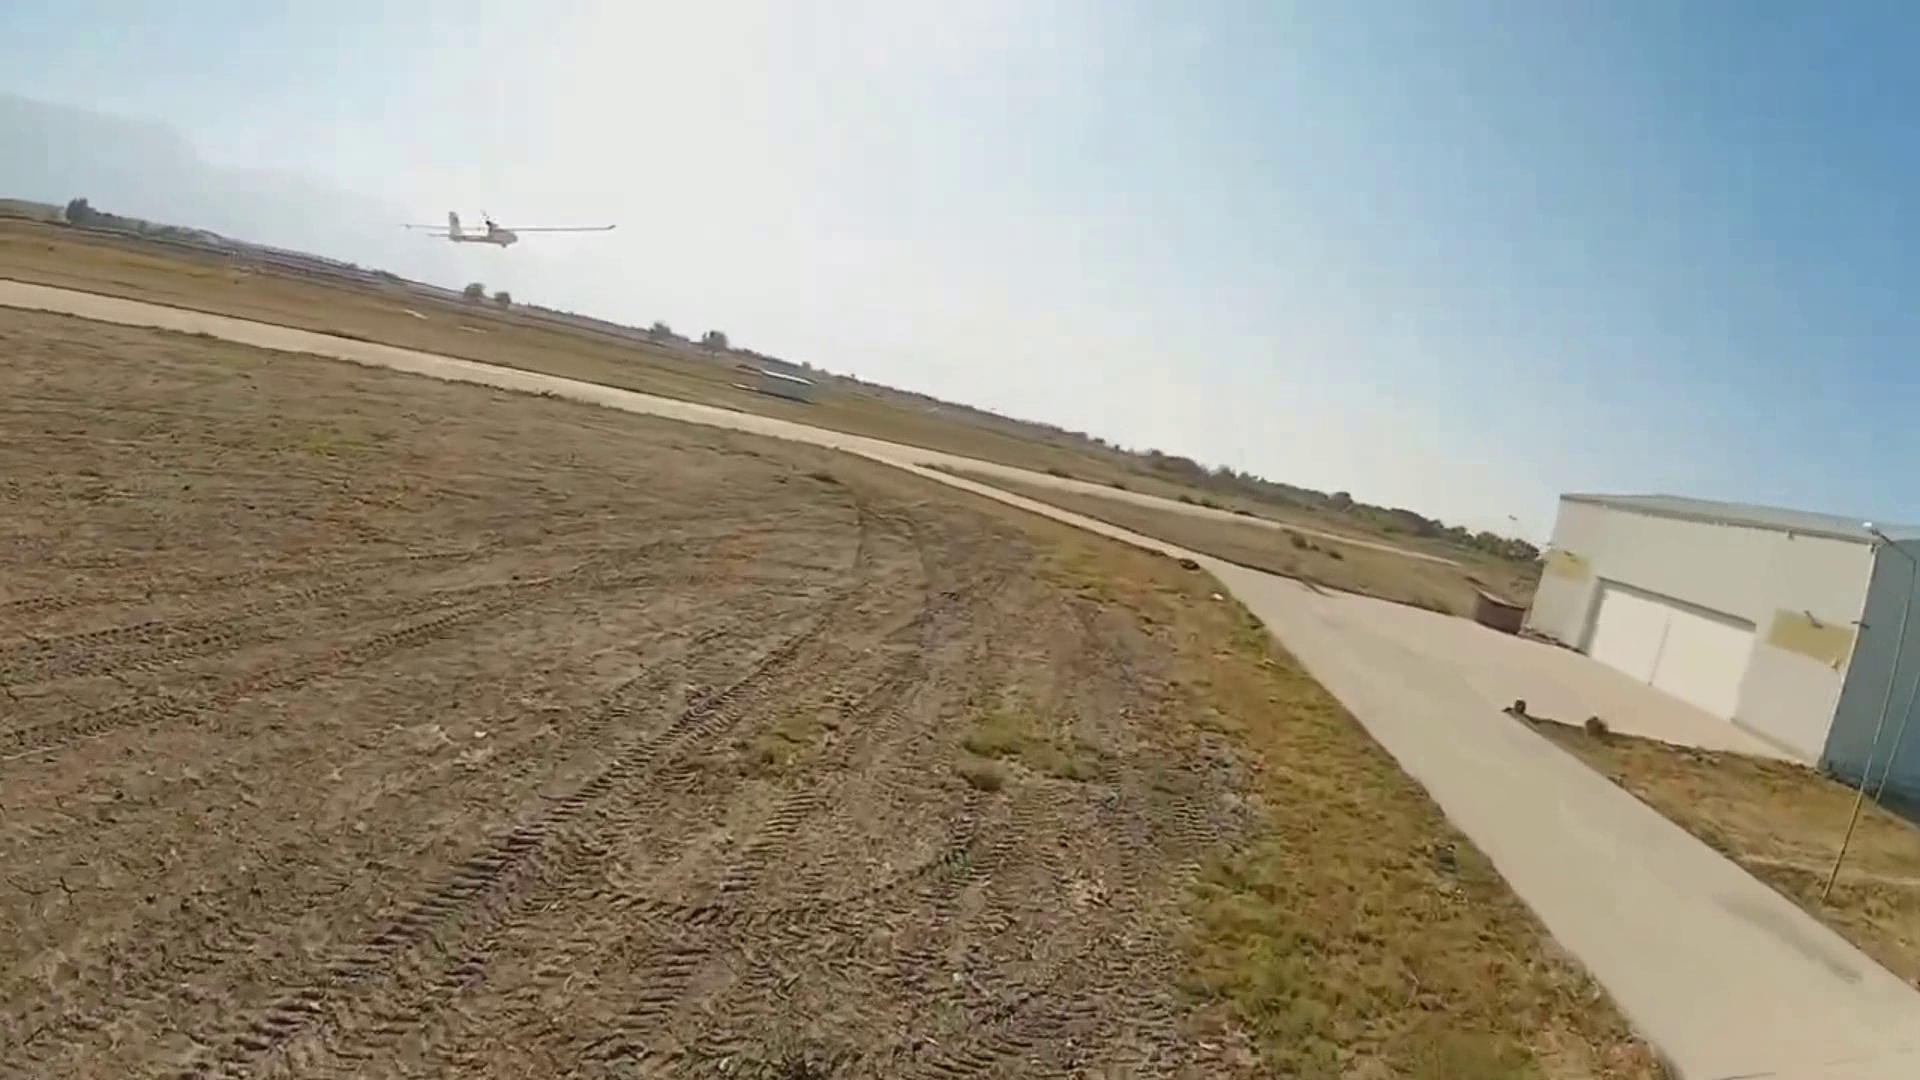airplane: (397, 156, 620, 248), (397, 193, 618, 247)
